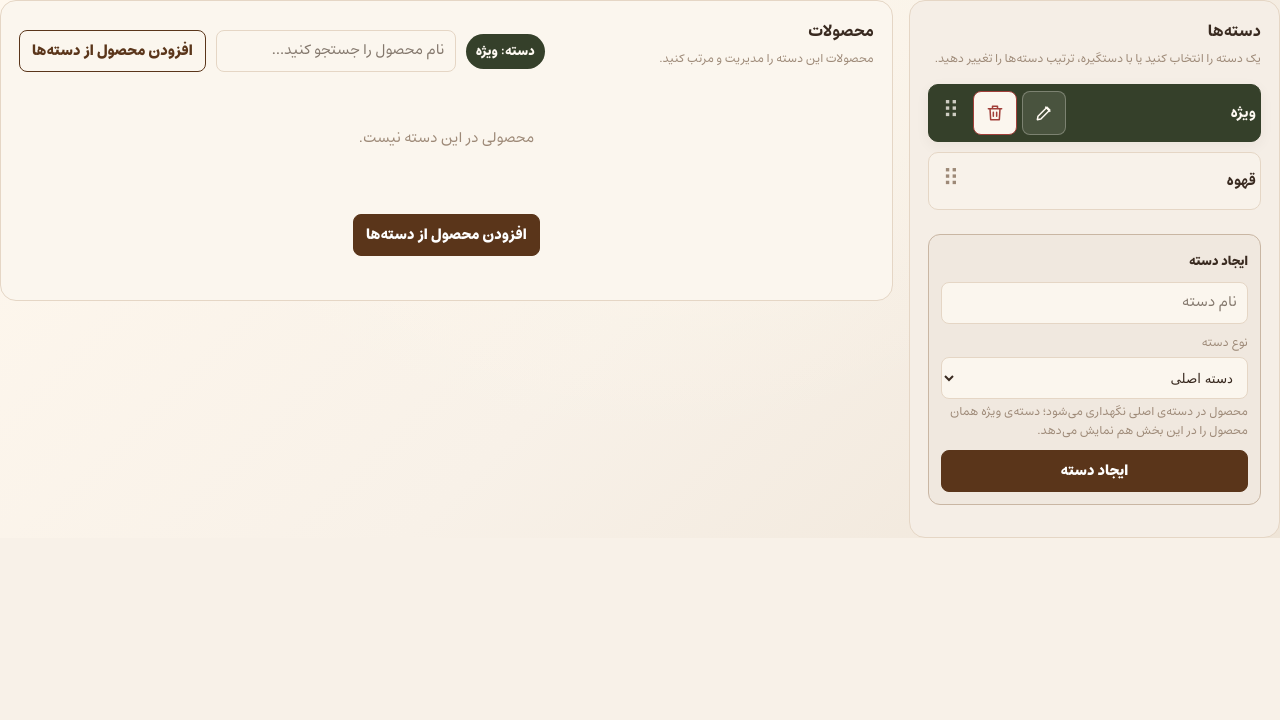
Test: Manager promotional product picker › closes the previous category editor and discards its draft when selection changes
Click the button named "تغییر نام دسته" at (1044,113), box left=1022, top=91, right=1066, bottom=135
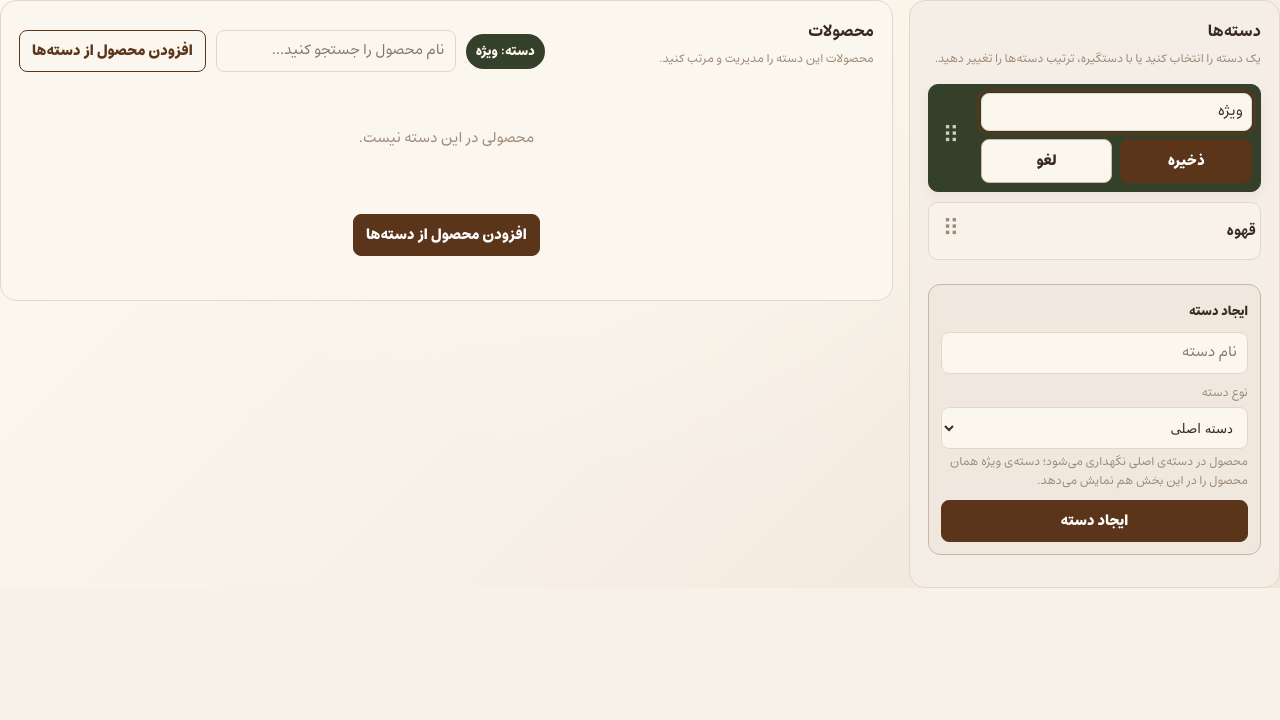
Replace the text in the field named "نام دسته" with "Unsaved rename" at (1116,112), box left=981, top=93, right=1252, bottom=131
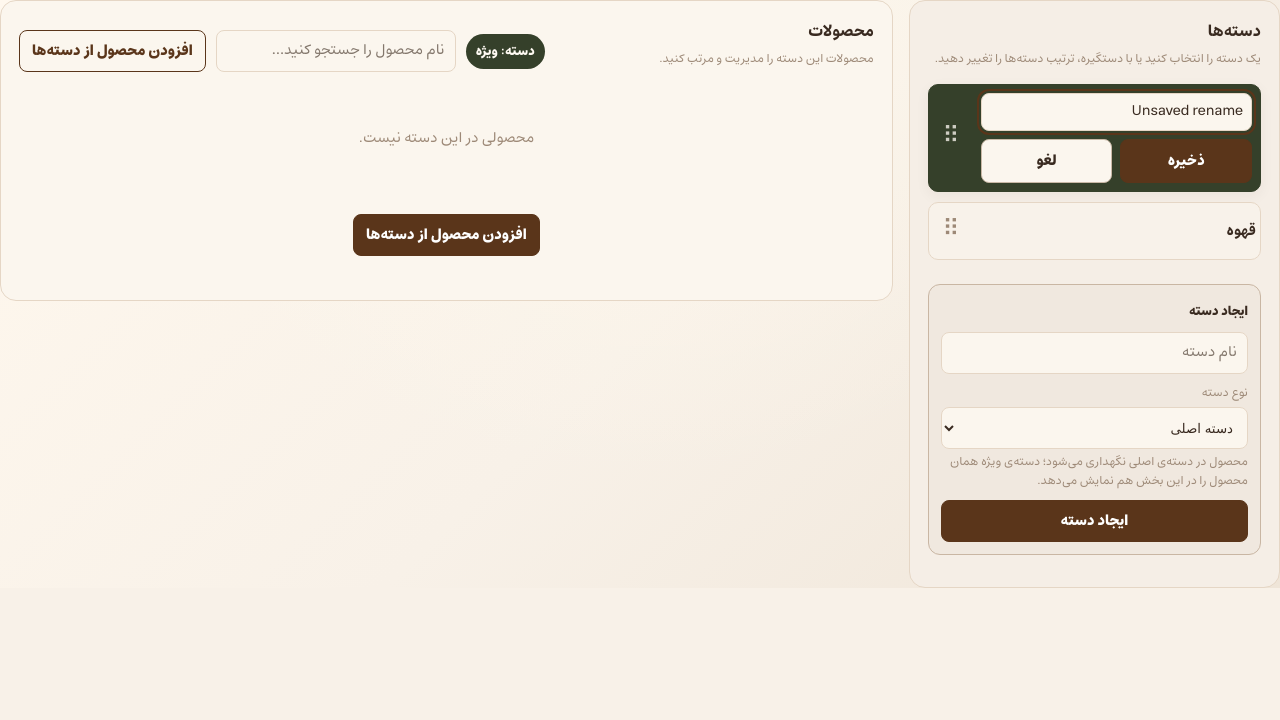
Click the button "قهوه" at (1241,231), box left=973, top=214, right=1260, bottom=248
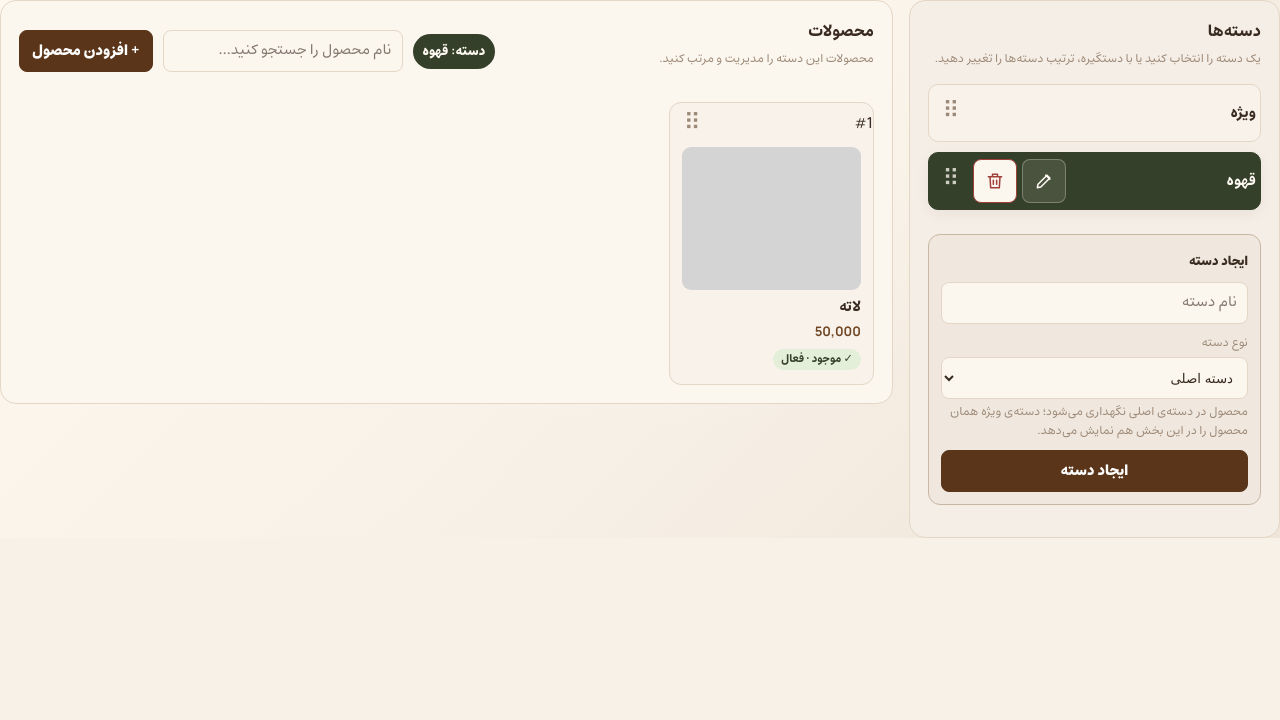
Now the form with class "catalog-category-rename" is gone
Click the button "ویژه" at (1243,113), box left=973, top=96, right=1260, bottom=130
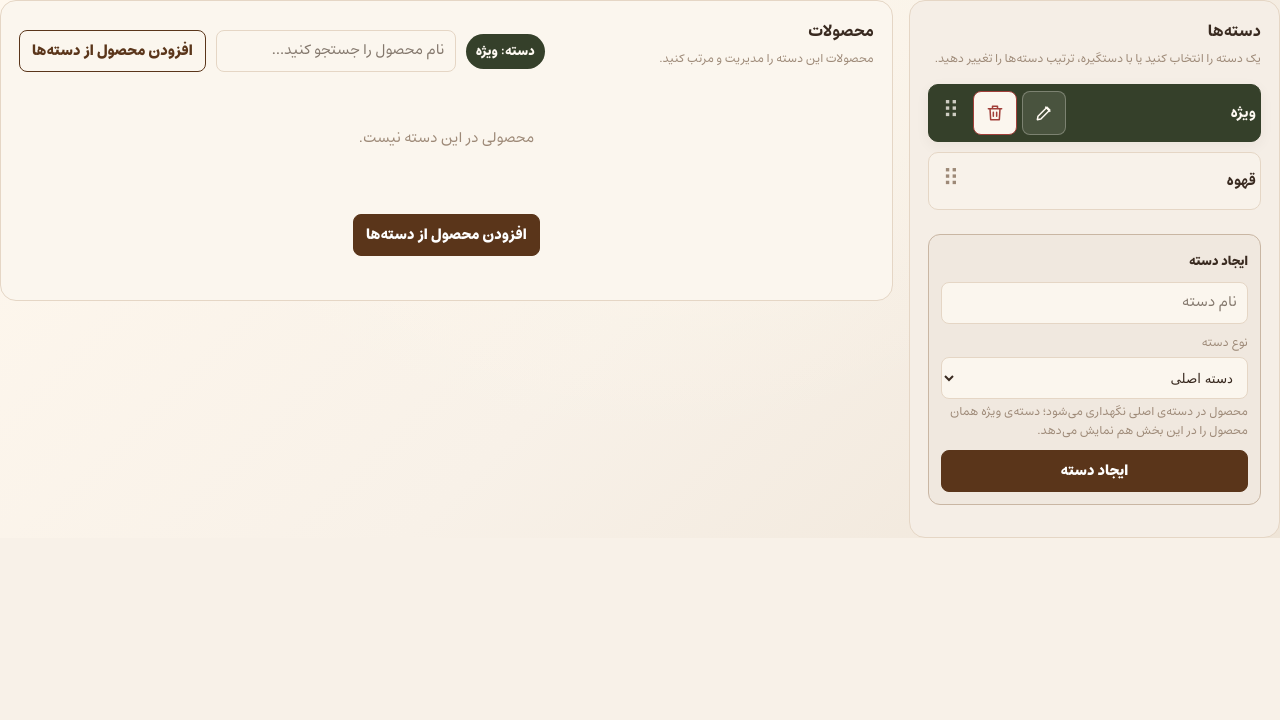
Click the button named "تغییر نام دسته" at (1044,113), box left=1022, top=91, right=1066, bottom=135
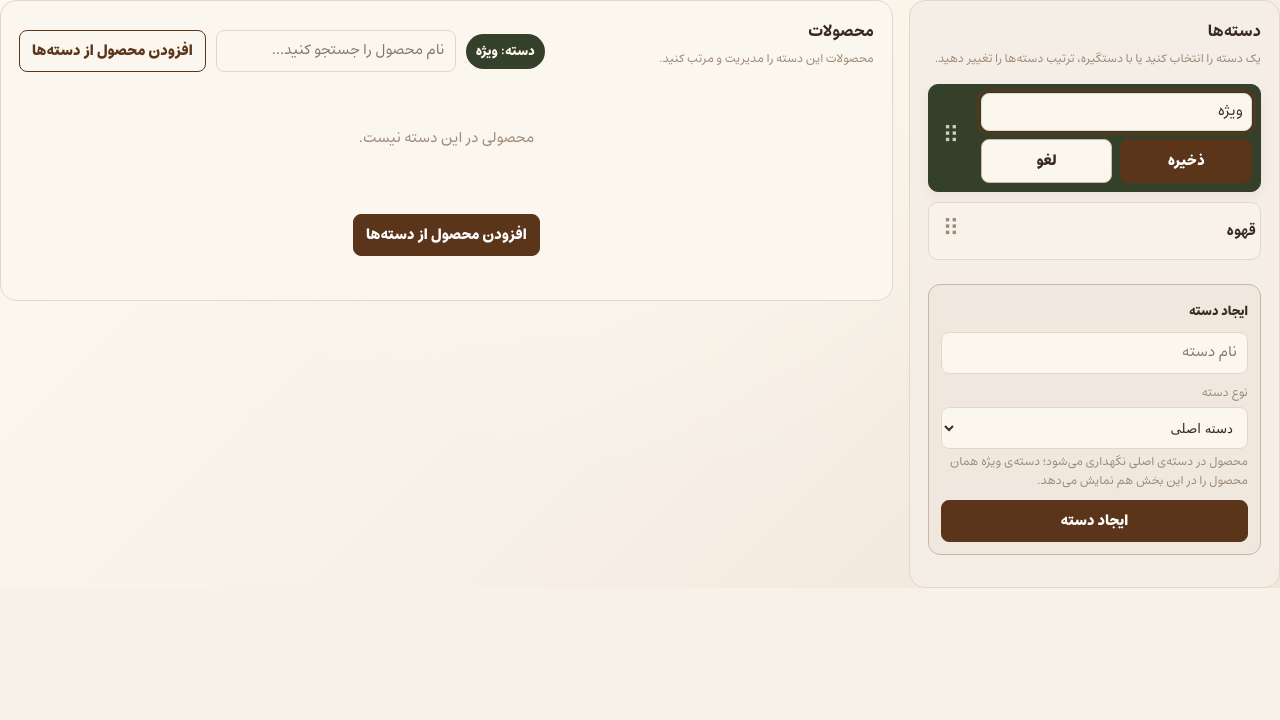
Now the field named "نام دسته" holds "ویژه", box left=981, top=93, right=1252, bottom=131
